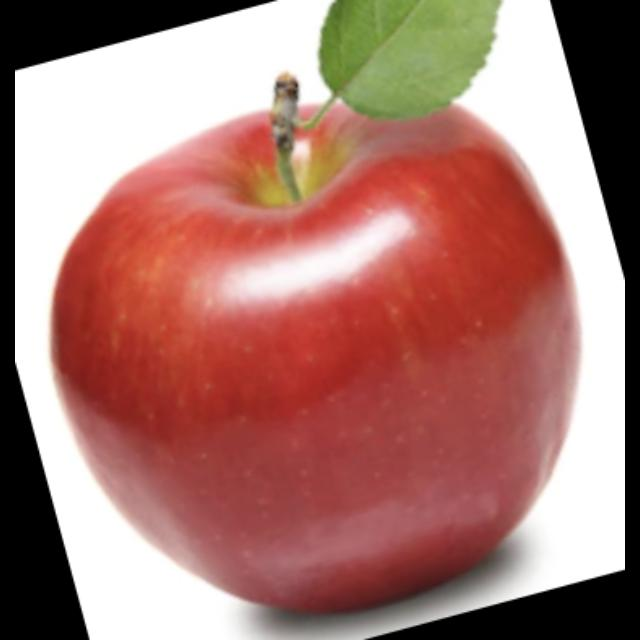Apel Segar: (44, 92, 586, 604)
